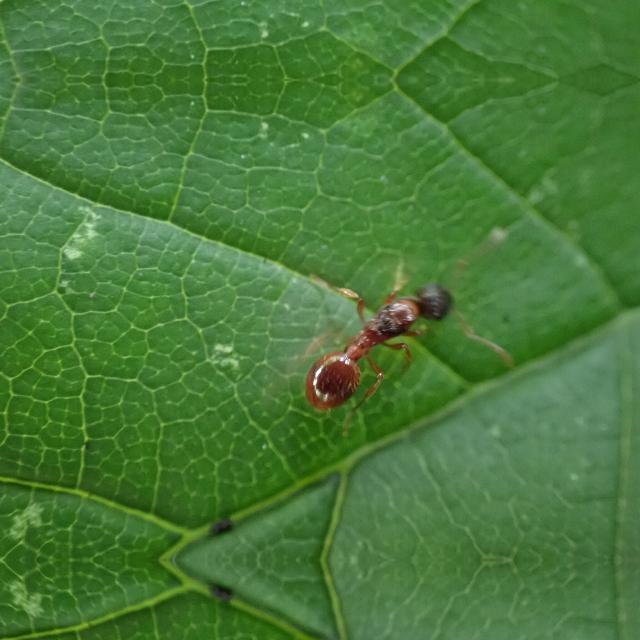Myrmica: (286, 258, 479, 427)
